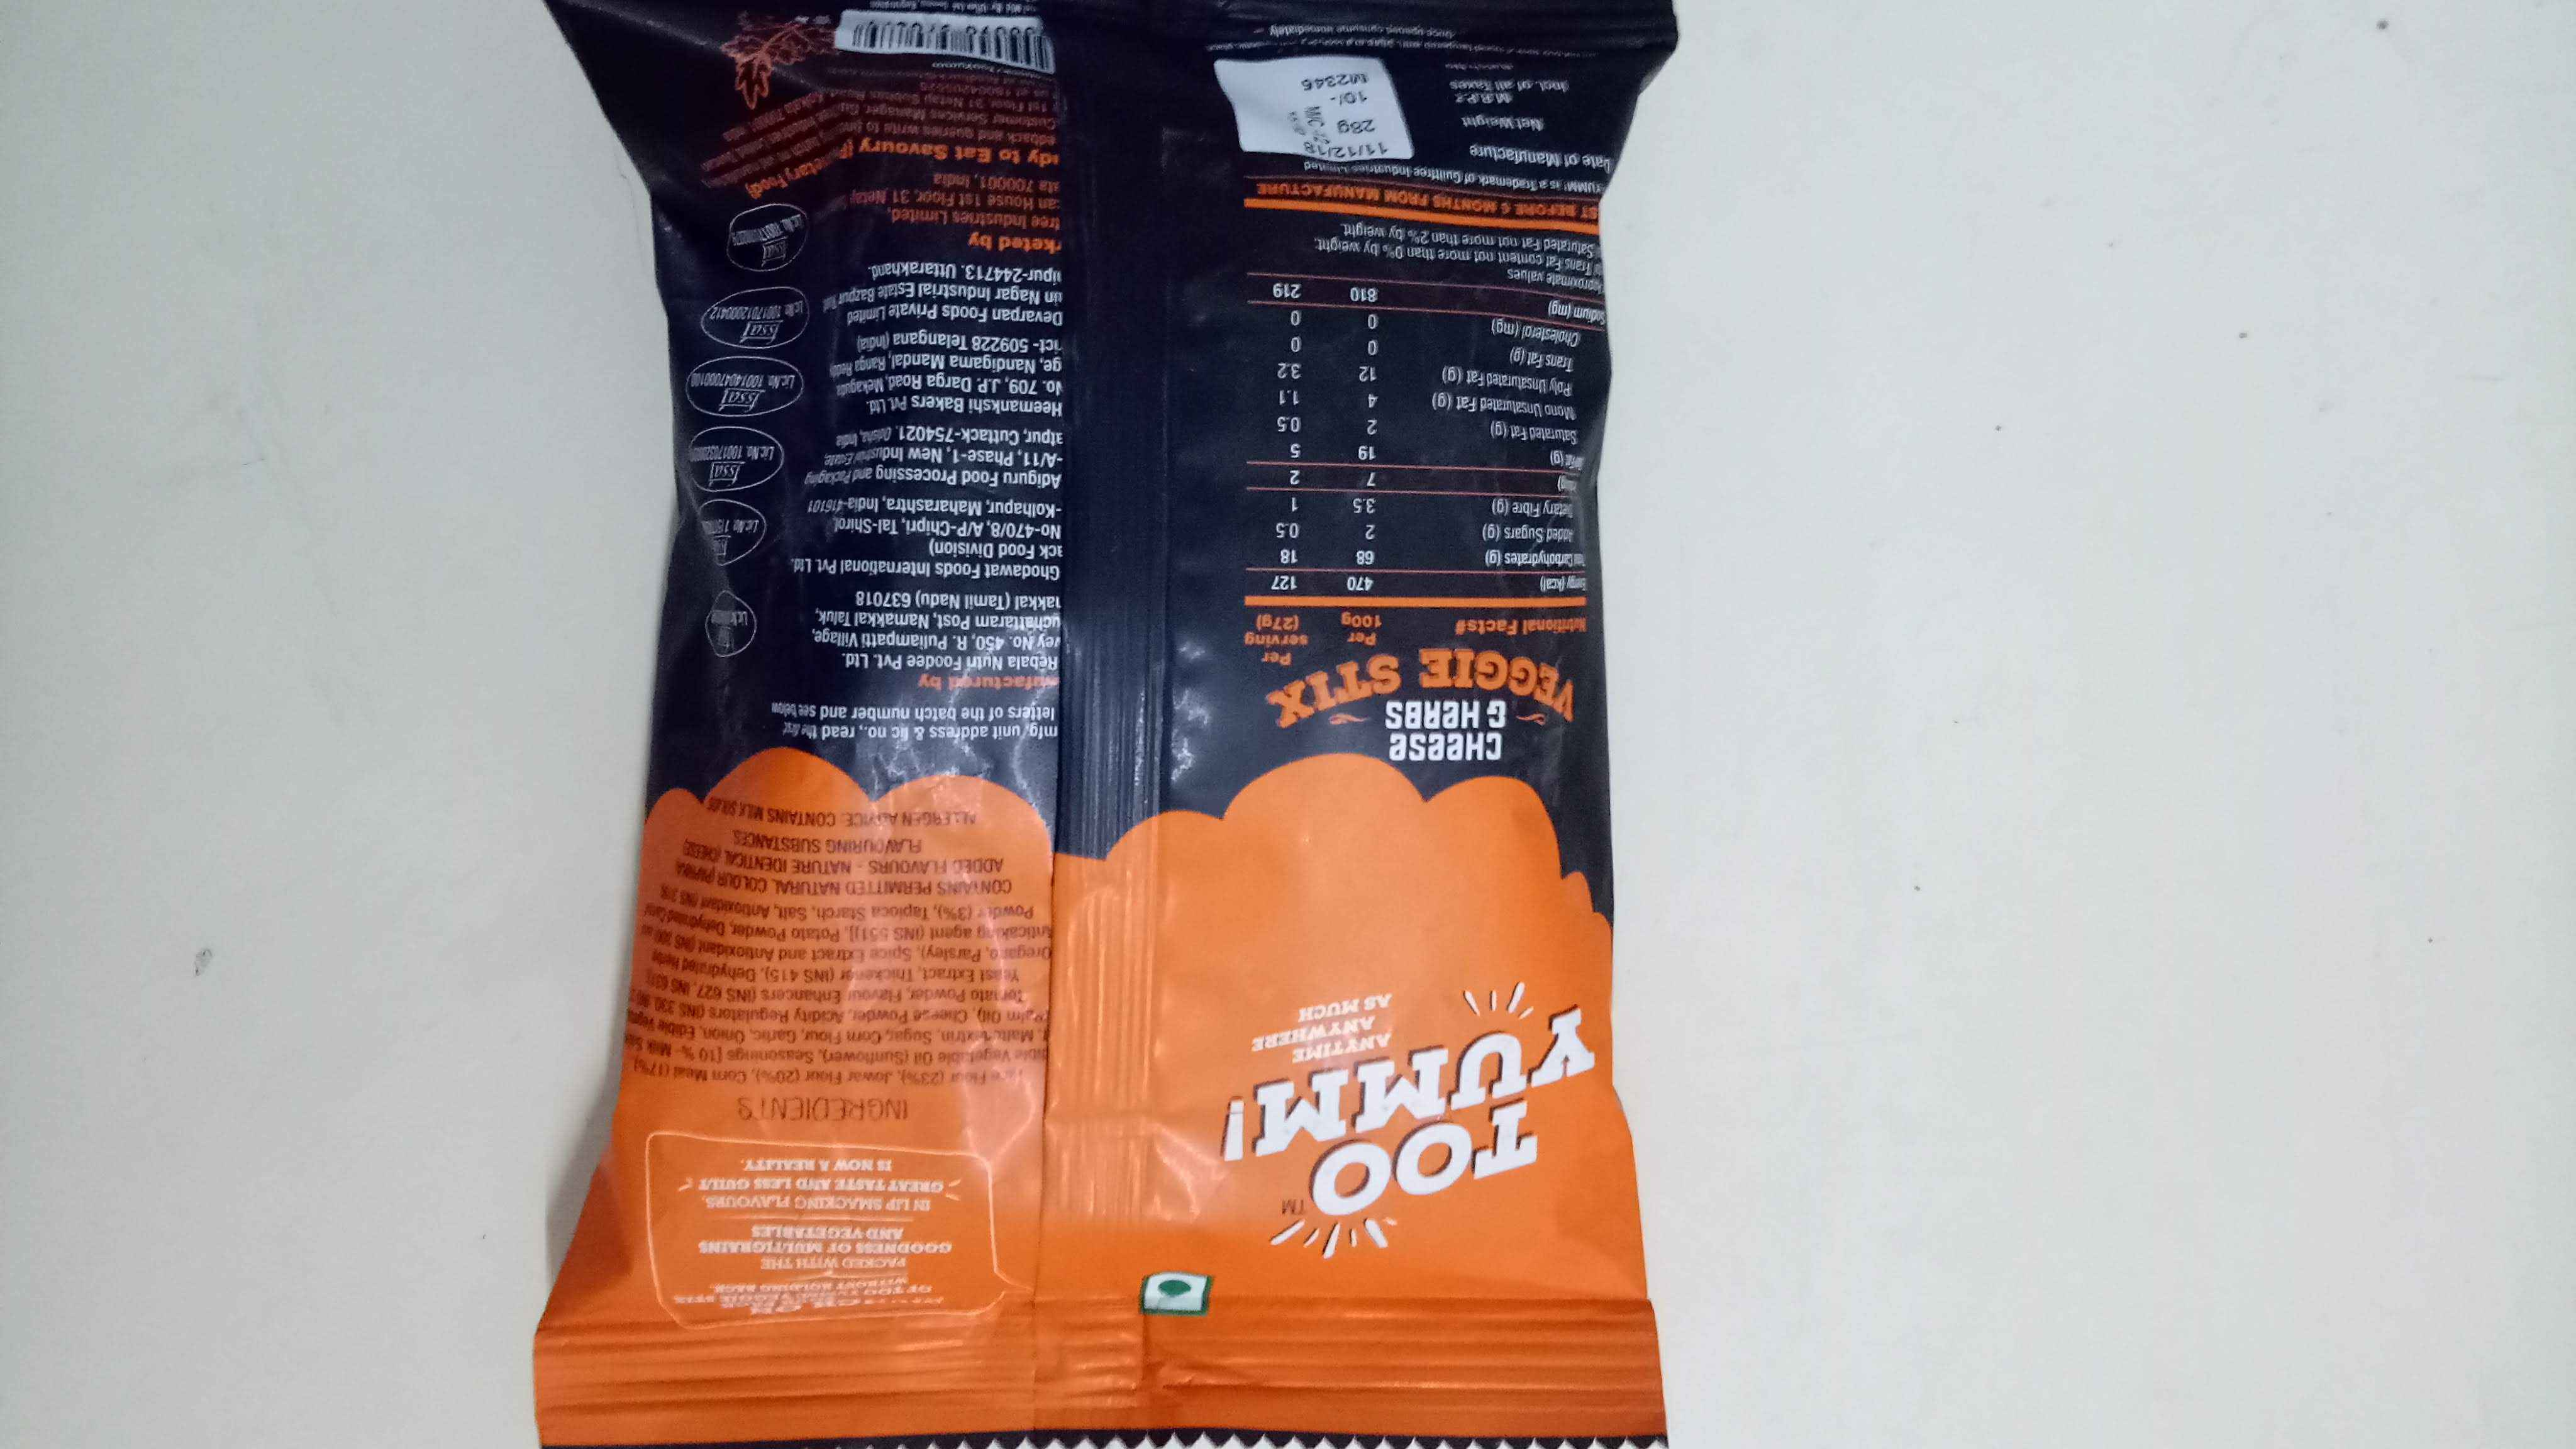tooyumm: (1175, 989, 1621, 1256)
